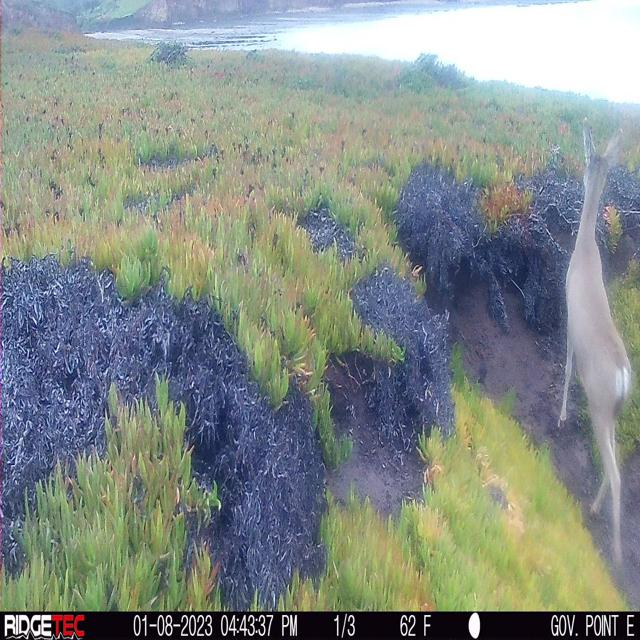deer: (552, 124, 639, 601)
